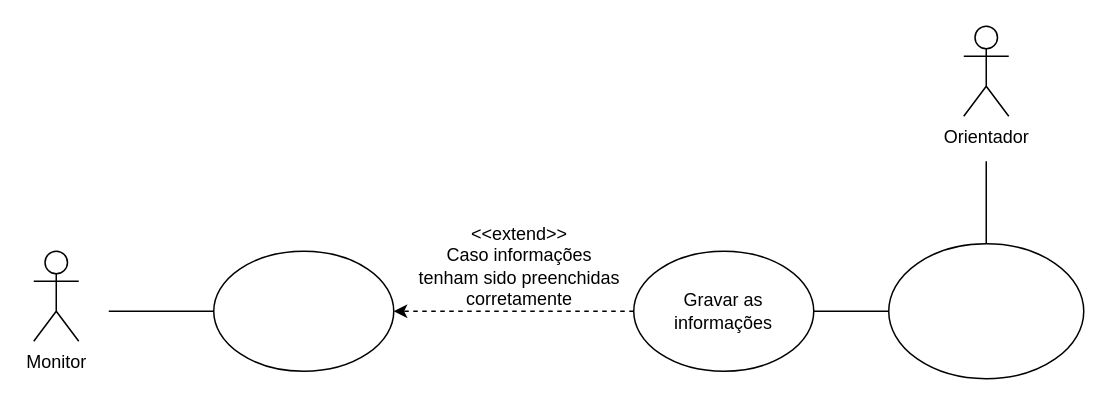
Image size: 1110x405. Some labels were removed from this diagram. Here are the shapes that lost their labels. From the top down, the centre of each, then its label:
the point at 303,310: Receber dados do monitor
the point at 985,310: Enviar pendência para Orientador
